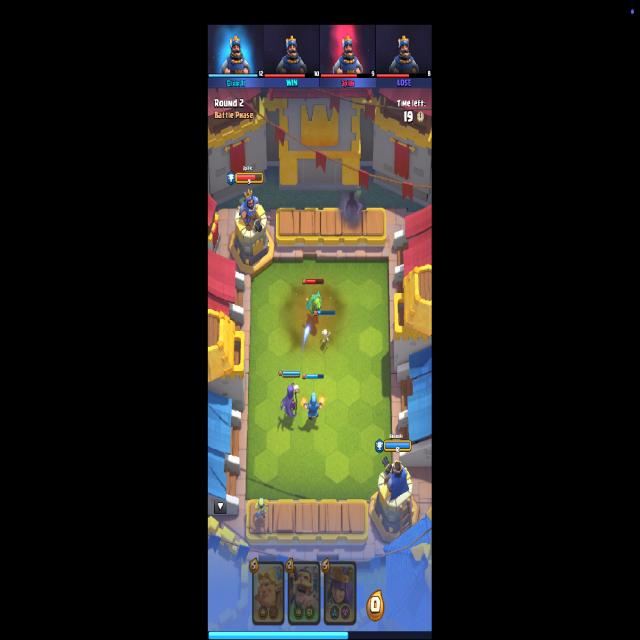baby_dragon: (306, 290, 322, 318)
card_archer_queen: (324, 560, 357, 626)
card_golden_knight: (252, 560, 284, 626)
card_knight: (288, 560, 321, 627)
skeleton: (322, 328, 330, 344)
spear_goblin: (255, 497, 270, 522)
witch: (280, 382, 300, 419)
wizard: (303, 393, 324, 420)
